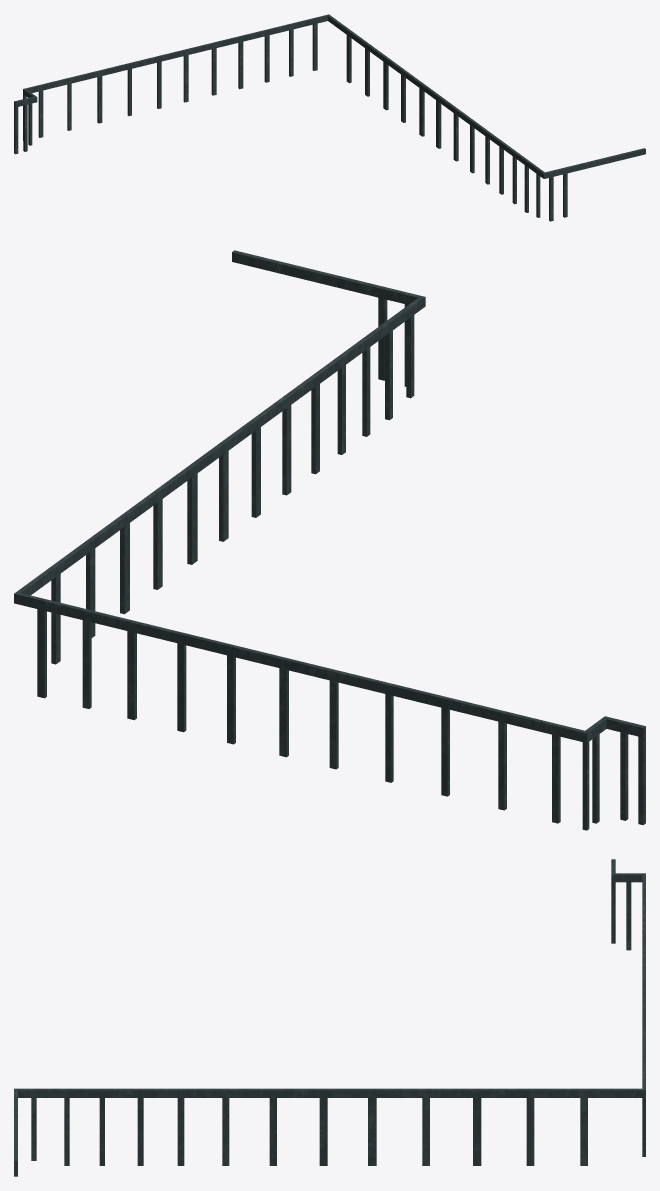
The model's file is SecondFloorRailingTwo.obj.
3 renders of one model, top to bottom at view 1: azimuth 30°, elevation 25°; view 2: azimuth 150°, elevation 25°; view 3: azimuth 270°, elevation 25°, orthographic. The views are drawn at different scales.
Visible parts, largest first — view 1: Railing_Right; view 2: Railing_Right; view 3: Railing_Right.
Part boxes in pixels (left/top/right/bottom): Railing_Right: left=14, top=14, right=645, bottom=221; Railing_Right: left=14, top=250, right=645, bottom=830; Railing_Right: left=14, top=859, right=645, bottom=1176.
Size of the model in its own units: 58.77 by 6.85 by 52.04.
